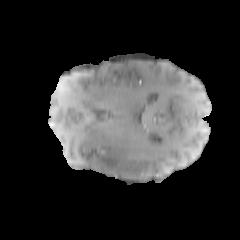glioma: (82, 136, 192, 179)
